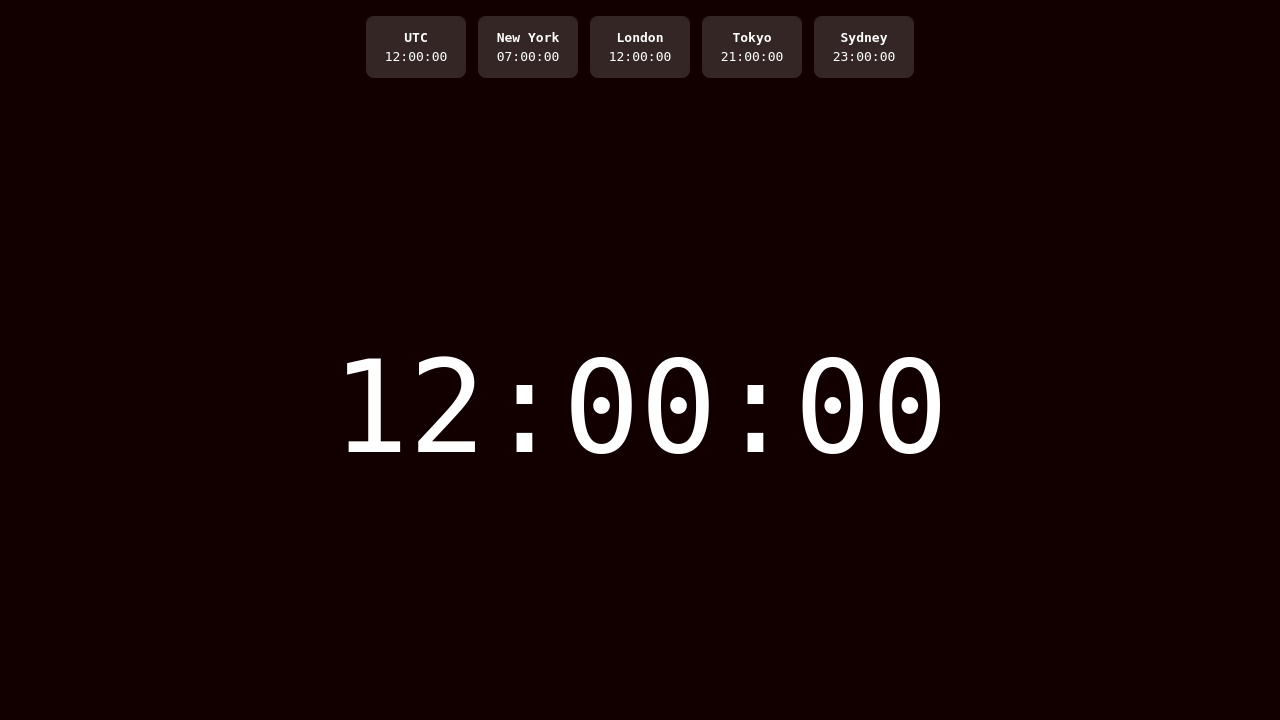
Scenario: App › clicking a timezone card changes the main clock to that timezone
What coordinates should you click on to do the following:
click the text "Tokyo"
I would click on:
 (752, 38)
Its box is [732,30,772,45].
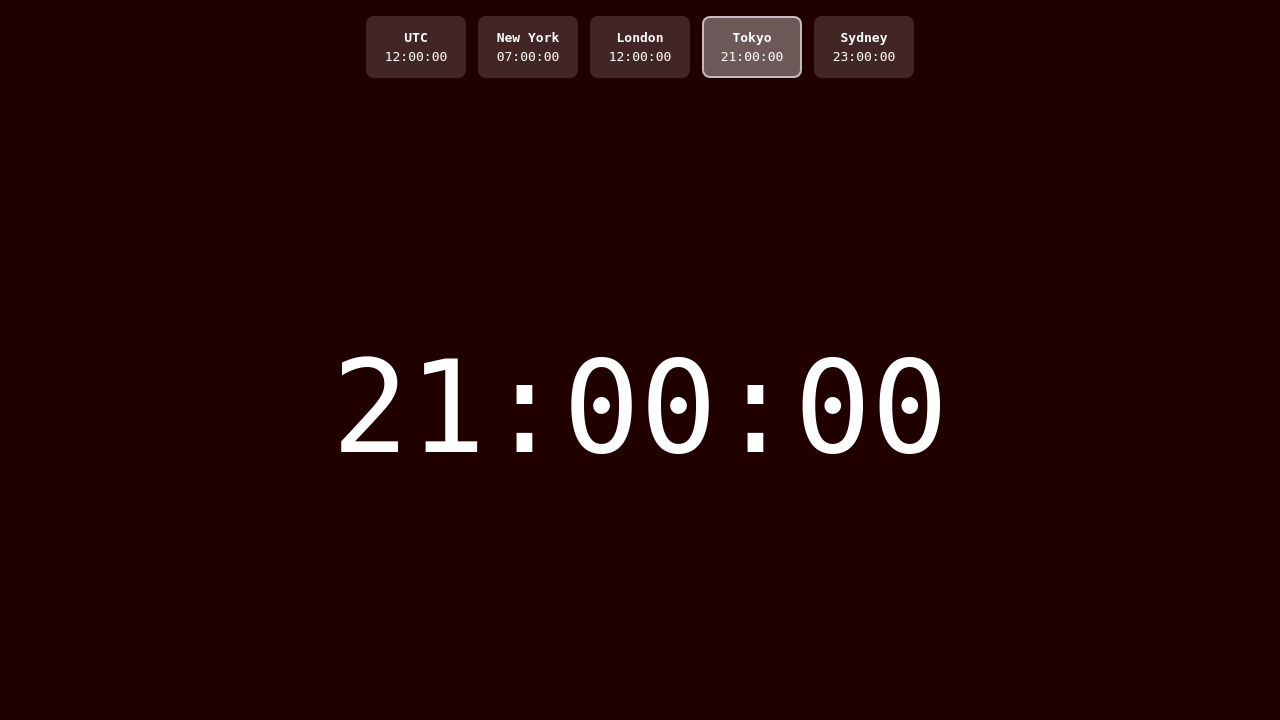
Expected: the 2nd text "21:00:00" is shown, [332,332,948,482]
